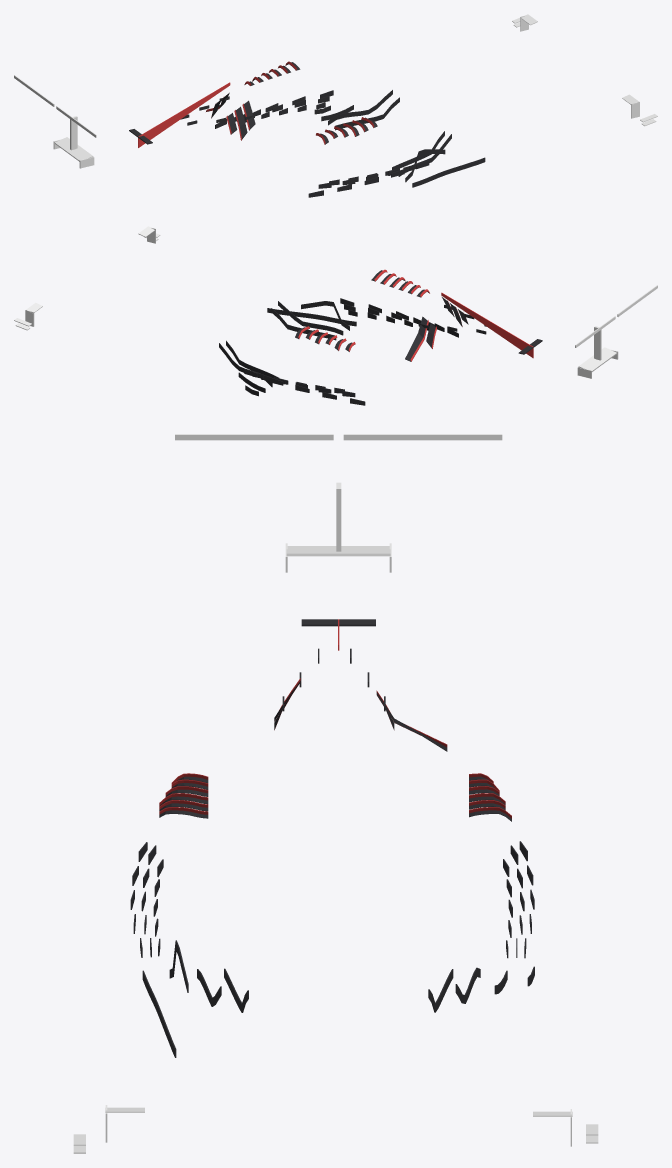
Rendered from f1-car-mejoras-2023.glb.
3 views of the same model, one above another, from view 1: azimuth 30°, elevation 25°; view 2: azimuth 150°, elevation 25°; view 3: azimuth 270°, elevation 25° (orthographic). The views are drawn at different scales.
Visible parts, largest first — view 1: mejora_suelo_2, mejora_suelo_1, mejora_alerones_3, mejora_eficiencia_1, mejora_refrigeracion_2, mejora_alerones_2, mejora_refrigeracion_1, mejora_alerones_1, mejora_refrigeracion_3, mejora_suelo_3; view 2: mejora_suelo_2, mejora_suelo_1, mejora_alerones_3, mejora_eficiencia_1, mejora_refrigeracion_1, mejora_refrigeracion_2, mejora_alerones_2, mejora_alerones_1, mejora_suelo_3, mejora_refrigeracion_3; view 3: mejora_alerones_1, mejora_suelo_2, mejora_suelo_1, mejora_alerones_3, mejora_refrigeracion_1, mejora_refrigeracion_2, mejora_refrigeracion_3.
Part boxes in pixels (box(x1,y1,x2,y2)): mejora_suelo_2: box(234, 90, 451, 188); mejora_suelo_1: box(215, 90, 485, 197); mejora_alerones_3: box(53, 116, 94, 168); mejora_eficiencia_1: box(138, 82, 230, 147); mejora_refrigeracion_2: box(211, 69, 359, 140); mejora_alerones_2: box(513, 14, 656, 126); mejora_refrigeracion_1: box(206, 76, 337, 144); mejora_alerones_1: box(14, 18, 657, 137); mejora_refrigeracion_3: box(226, 61, 377, 134); mejora_suelo_3: box(244, 102, 412, 185); mejora_suelo_2: box(219, 301, 444, 397); mejora_suelo_1: box(238, 298, 458, 405); mejora_alerones_3: box(577, 326, 618, 378); mejora_eficiencia_1: box(441, 292, 533, 358); mejora_refrigeracion_1: box(334, 285, 454, 361); mejora_refrigeracion_2: box(315, 277, 462, 348); mejora_alerones_2: box(15, 226, 158, 330); mejora_alerones_1: box(14, 233, 657, 347); mejora_suelo_3: box(261, 309, 429, 393); mejora_refrigeracion_3: box(295, 269, 468, 339); mejora_alerones_1: box(73, 434, 598, 1145); mejora_suelo_2: box(141, 845, 524, 1012); mejora_suelo_1: box(130, 841, 534, 1057); mejora_alerones_3: box(285, 482, 391, 572); mejora_refrigeracion_1: box(171, 678, 499, 791); mejora_refrigeracion_2: box(159, 682, 505, 806); mejora_refrigeracion_3: box(159, 699, 511, 821).
Bounding box in the file's own units: 5 × 1.09 × 2.11.
